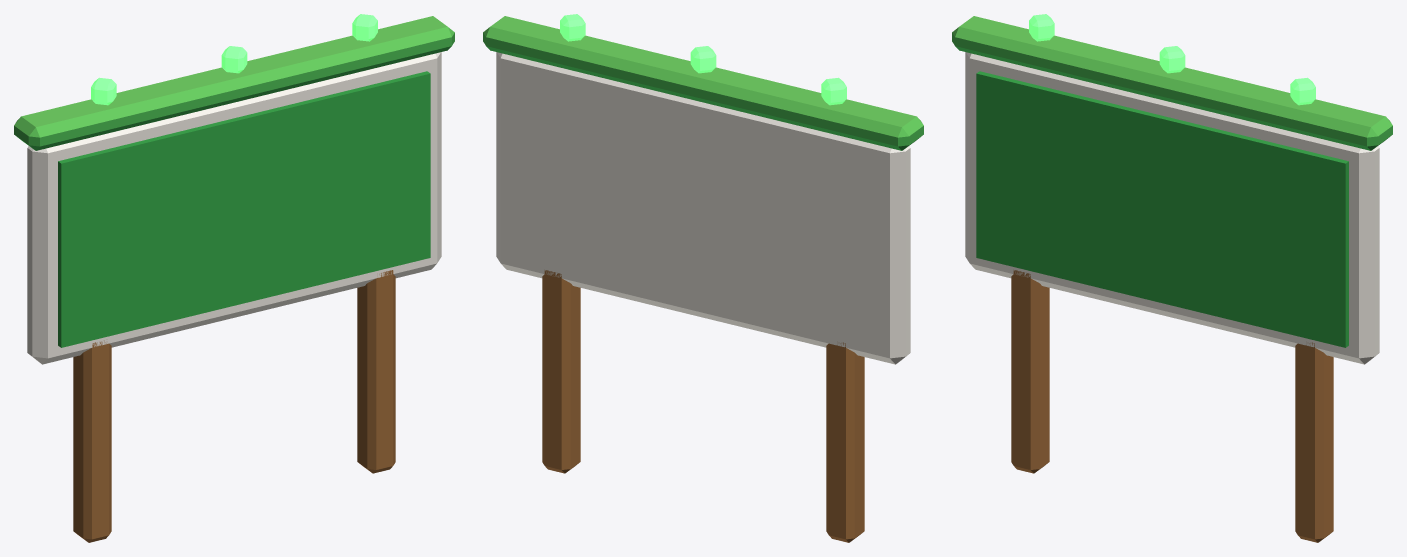
Rendered from OwnerBoard_3.glb.
3 views of the same model, side by side, from view 1: azimuth 30°, elevation 25°; view 2: azimuth 150°, elevation 25°; view 3: azimuth 330°, elevation 25° (orthographic).
Visible parts, largest first — view 1: OwnerBoard_3, OwnerBoard_3_Glow_acc3; view 2: OwnerBoard_3, OwnerBoard_3_Glow_acc3; view 3: OwnerBoard_3, OwnerBoard_3_Glow_acc3.
Part boxes in pixels (x1,y1,x2,y2): OwnerBoard_3: (14, 16, 454, 542); OwnerBoard_3_Glow_acc3: (91, 14, 377, 105); OwnerBoard_3: (483, 16, 923, 542); OwnerBoard_3_Glow_acc3: (560, 14, 846, 105); OwnerBoard_3: (952, 16, 1392, 542); OwnerBoard_3_Glow_acc3: (1029, 14, 1315, 105).
Size of the model in its own units: 15 by 15.25 by 1.4.
2 materials, 1 textured.
